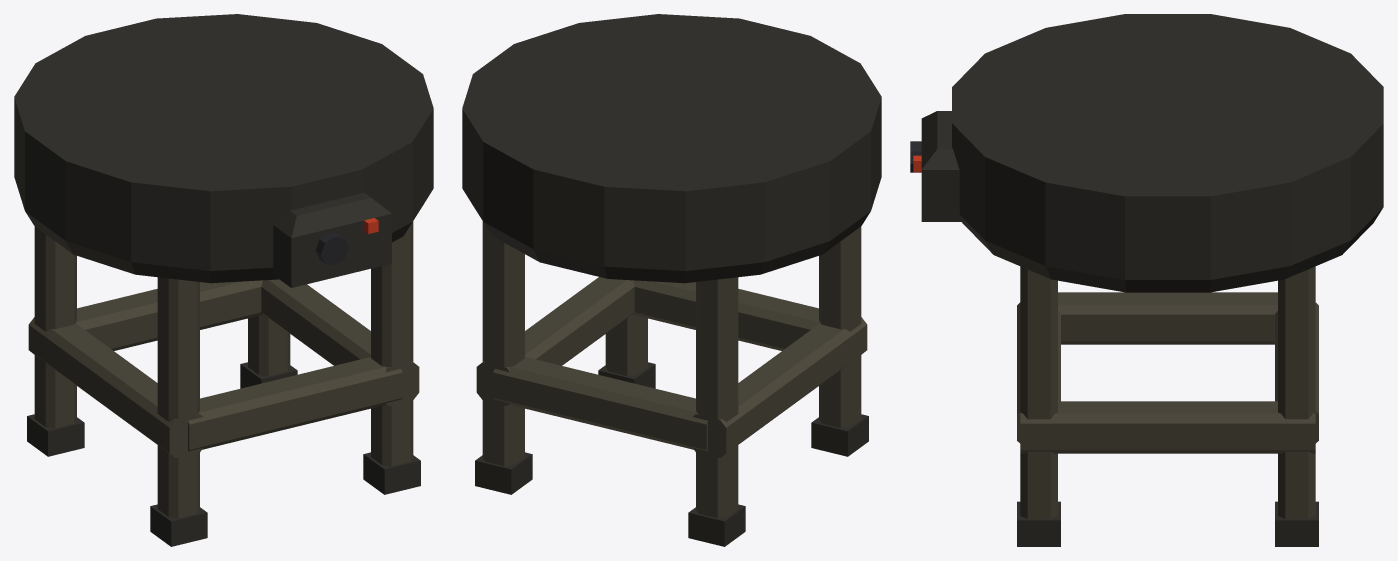
The model's file is SM_Cook_BlanchStand_01.fbx.
3 views of the same model, side by side, from view 1: azimuth 30°, elevation 25°; view 2: azimuth 150°, elevation 25°; view 3: azimuth 270°, elevation 25° (orthographic). The views are drawn at different scales.
Visible parts, largest first — view 1: SM_Cook_BlanchStand_01; view 2: SM_Cook_BlanchStand_01; view 3: SM_Cook_BlanchStand_01.
Part boxes in pixels (x1,y1,x2,y2): SM_Cook_BlanchStand_01: (14,14,433,546); SM_Cook_BlanchStand_01: (462,14,881,546); SM_Cook_BlanchStand_01: (910,14,1383,546).
Size of the model in its own units: 0.4119 by 0.398 by 0.452.
1 material, 1 textured.
